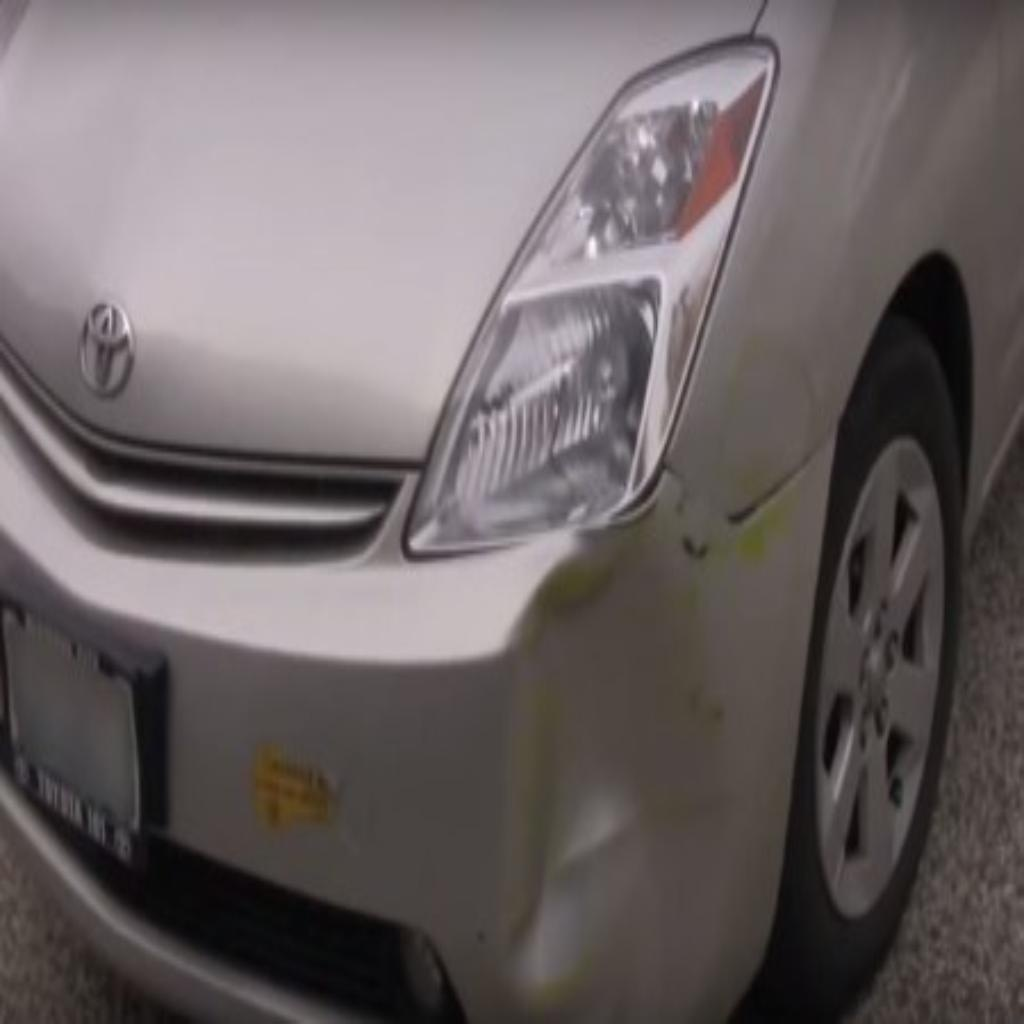Dent: (495, 531, 752, 1001)
